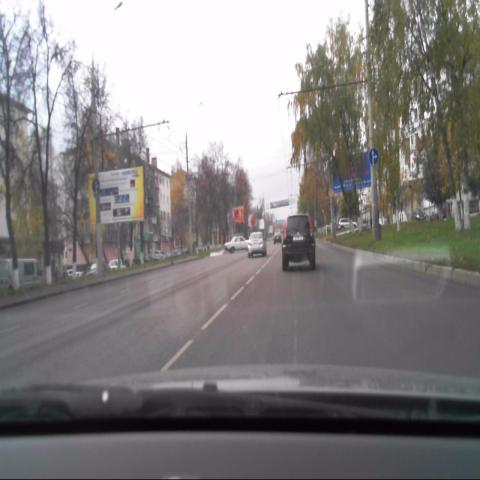4_1_4: (91, 178, 102, 195), (368, 147, 378, 164)
